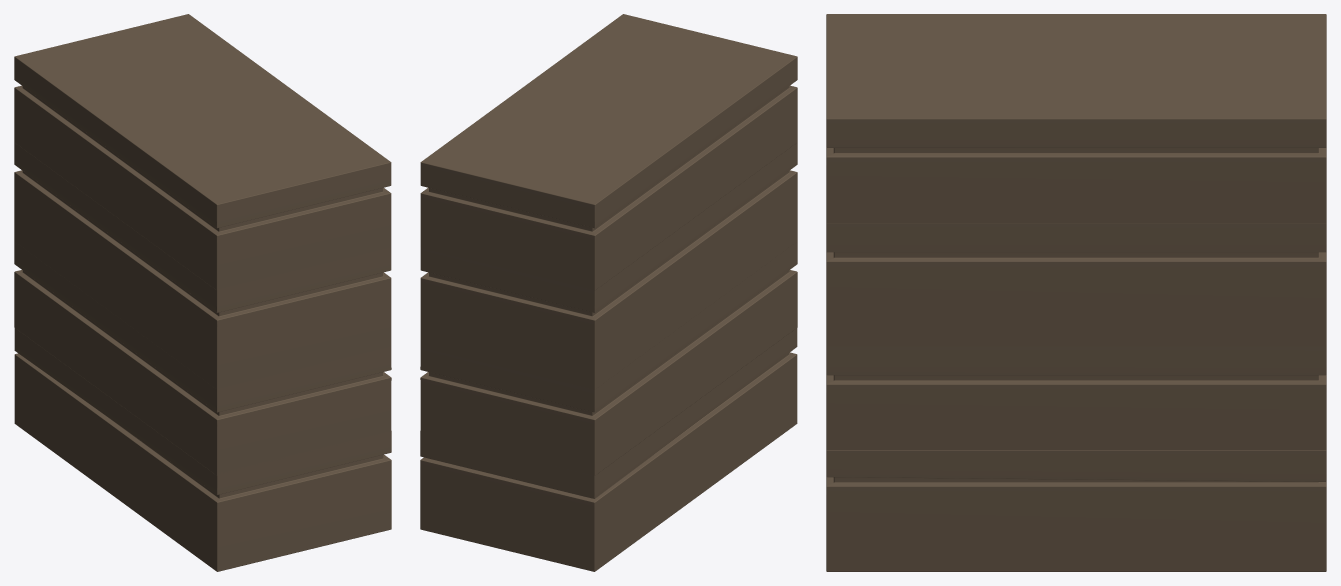
The model's file is kitchenCupboard.fbx.
The picture shows the model from 3 angles, left to right: view 1: azimuth 30°, elevation 25°; view 2: azimuth 150°, elevation 25°; view 3: azimuth 270°, elevation 25°; orthographic projection. The views are drawn at different scales.
Visible parts, largest first — view 1: kitchenCupboardBoxes; view 2: kitchenCupboardBoxes; view 3: kitchenCupboardBoxes.
Boxes of the visible parts, left/top/right/bottom form: kitchenCupboardBoxes: left=14, top=14, right=391, bottom=571; kitchenCupboardBoxes: left=420, top=14, right=797, bottom=571; kitchenCupboardBoxes: left=826, top=14, right=1326, bottom=571.
Bounding box in the file's own units: 19.92 × 39.99 × 39.99.
